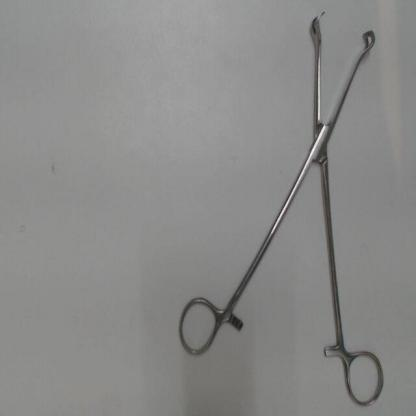8 Babcock Tissue Forceps: (169, 6, 389, 410)
